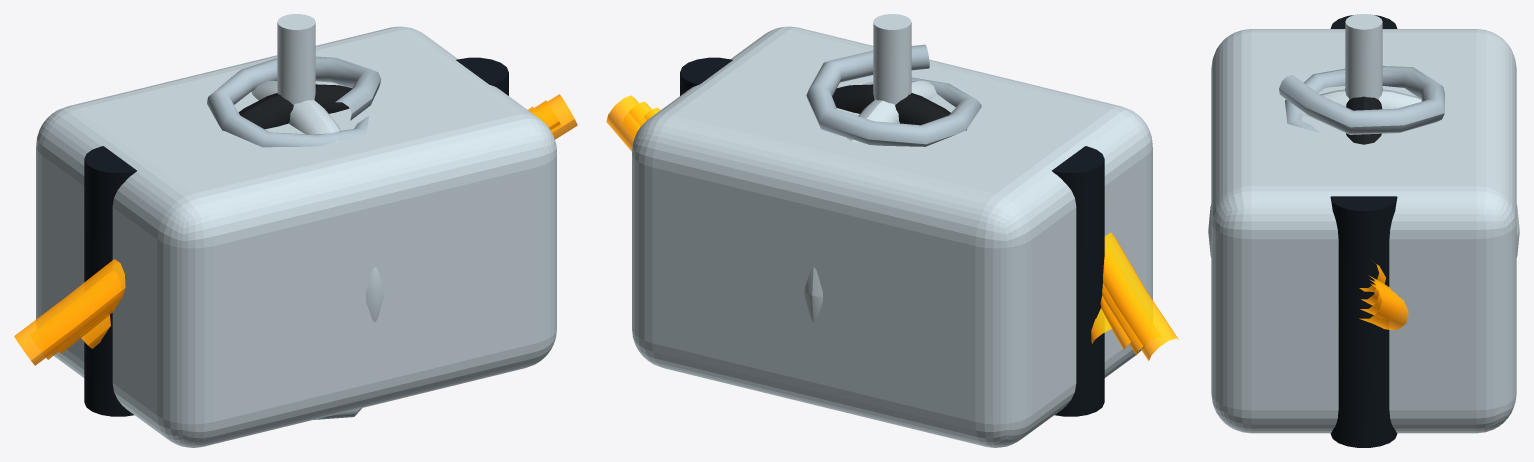
The model's file is remaining_systems_09.glb.
3 views of the same model, side by side, from view 1: azimuth 30°, elevation 25°; view 2: azimuth 150°, elevation 25°; view 3: azimuth 270°, elevation 25° (orthographic). The views are drawn at different scales.
Visible parts, largest first — view 1: asset_mesh__remaining_systems_0908__reference_body, asset_mesh__remaining_systems_1002__coil_spring, asset_mesh__remaining_systems_0950__left_tank, asset_mesh__remaining_systems_0971__fluid_path, asset_mesh__remaining_systems_0974__piston_rod, asset_mesh__remaining_systems_0916__functional_ring, asset_mesh__remaining_systems_0970__service_element, asset_mesh__remaining_systems_0950__right_tank, asset_mesh__remaining_systems_0979__fluid_path; view 2: asset_mesh__remaining_systems_0908__reference_body, asset_mesh__remaining_systems_0950__left_tank, asset_mesh__remaining_systems_1002__coil_spring, asset_mesh__remaining_systems_0971__fluid_path, asset_mesh__remaining_systems_0974__piston_rod, asset_mesh__remaining_systems_0970__service_element, asset_mesh__remaining_systems_0916__functional_ring, asset_mesh__remaining_systems_0950__right_tank, asset_mesh__remaining_systems_0979__fluid_path, asset_mesh__remaining_systems_0969__fluid_path; view 3: asset_mesh__remaining_systems_0908__reference_body, asset_mesh__remaining_systems_0950__right_tank, asset_mesh__remaining_systems_1002__coil_spring, asset_mesh__remaining_systems_0974__piston_rod, asset_mesh__remaining_systems_0916__functional_ring, asset_mesh__remaining_systems_0971__fluid_path, asset_mesh__remaining_systems_0970__service_element, asset_mesh__remaining_systems_0950__left_tank.
Boxes of the visible parts, <box> form: asset_mesh__remaining_systems_0908__reference_body: <box>36,26,556,447</box>; asset_mesh__remaining_systems_1002__coil_spring: <box>207,56,380,419</box>; asset_mesh__remaining_systems_0950__left_tank: <box>84,146,136,416</box>; asset_mesh__remaining_systems_0971__fluid_path: <box>14,94,577,365</box>; asset_mesh__remaining_systems_0974__piston_rod: <box>277,14,315,104</box>; asset_mesh__remaining_systems_0916__functional_ring: <box>252,80,384,322</box>; asset_mesh__remaining_systems_0970__service_element: <box>222,84,351,130</box>; asset_mesh__remaining_systems_0950__right_tank: <box>456,57,508,95</box>; asset_mesh__remaining_systems_0979__fluid_path: <box>46,100,560,359</box>; asset_mesh__remaining_systems_0908__reference_body: <box>632,26,1152,447</box>; asset_mesh__remaining_systems_0950__left_tank: <box>1052,146,1104,416</box>; asset_mesh__remaining_systems_1002__coil_spring: <box>806,44,981,146</box>; asset_mesh__remaining_systems_0971__fluid_path: <box>606,95,1178,360</box>; asset_mesh__remaining_systems_0974__piston_rod: <box>873,14,911,104</box>; asset_mesh__remaining_systems_0970__service_element: <box>832,84,966,130</box>; asset_mesh__remaining_systems_0916__functional_ring: <box>804,80,936,322</box>; asset_mesh__remaining_systems_0950__right_tank: <box>680,57,732,95</box>; asset_mesh__remaining_systems_0979__fluid_path: <box>628,101,1143,355</box>; asset_mesh__remaining_systems_0969__fluid_path: <box>644,107,1130,349</box>; asset_mesh__remaining_systems_0908__reference_body: <box>1211,29,1516,433</box>; asset_mesh__remaining_systems_0950__right_tank: <box>1330,196,1397,447</box>; asset_mesh__remaining_systems_1002__coil_spring: <box>1279,66,1444,134</box>; asset_mesh__remaining_systems_0974__piston_rod: <box>1345,14,1382,99</box>; asset_mesh__remaining_systems_0916__functional_ring: <box>1208,89,1519,257</box>; asset_mesh__remaining_systems_0971__fluid_path: <box>1359,283,1408,330</box>; asset_mesh__remaining_systems_0970__service_element: <box>1345,89,1382,144</box>; asset_mesh__remaining_systems_0950__left_tank: <box>1330,15,1397,28</box>.
Bounding box in the file's own units: 1.73 × 1.12 × 0.8573.
